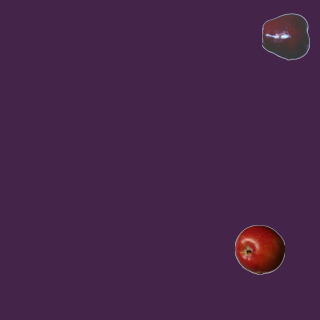Apple Braeburn: (234, 224, 284, 274)
Apple Red Delicious: (261, 11, 311, 61)
